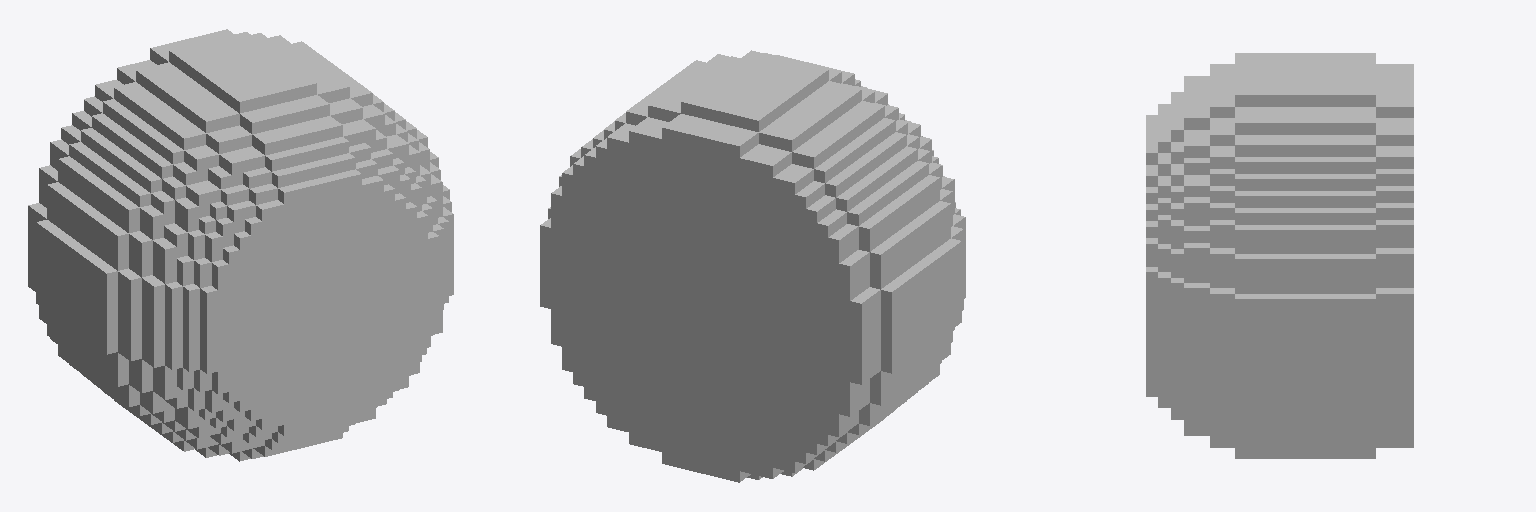
Rendered from Aerodinamica 2.obj.
The picture shows the model from 3 angles: view 1: azimuth 30°, elevation 25°; view 2: azimuth 150°, elevation 25°; view 3: azimuth 270°, elevation 25°; orthographic projection.
Parts seen in each view (by area): view 1: object 1; view 2: object 1; view 3: object 1.
Boxes of the visible parts, x1=… form: object 1: x1=28, y1=29, x2=453, y2=461; object 1: x1=540, y1=50, x2=965, y2=482; object 1: x1=1146, y1=53, x2=1413, y2=458.
Size of the model in its own units: 3.1 by 3.1 by 2.1.